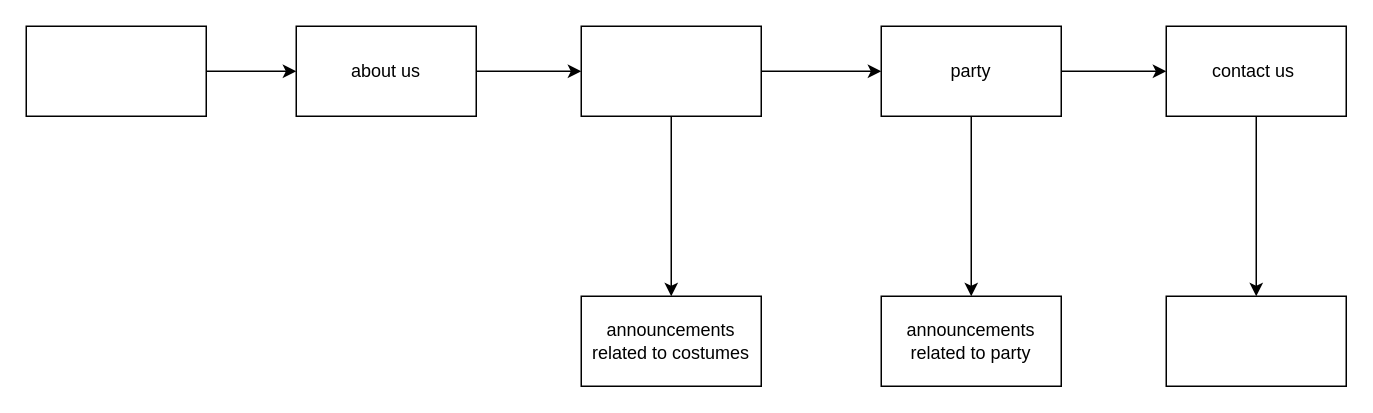
This 1373x413 diagram has some shape labels left out. The box of each missing label's shape, as (x1, y1, x2, y2) in pixels:
costumes: (580, 25, 761, 116)
home (info about cosplay): (25, 25, 206, 116)
other important links: (1165, 295, 1346, 386)
